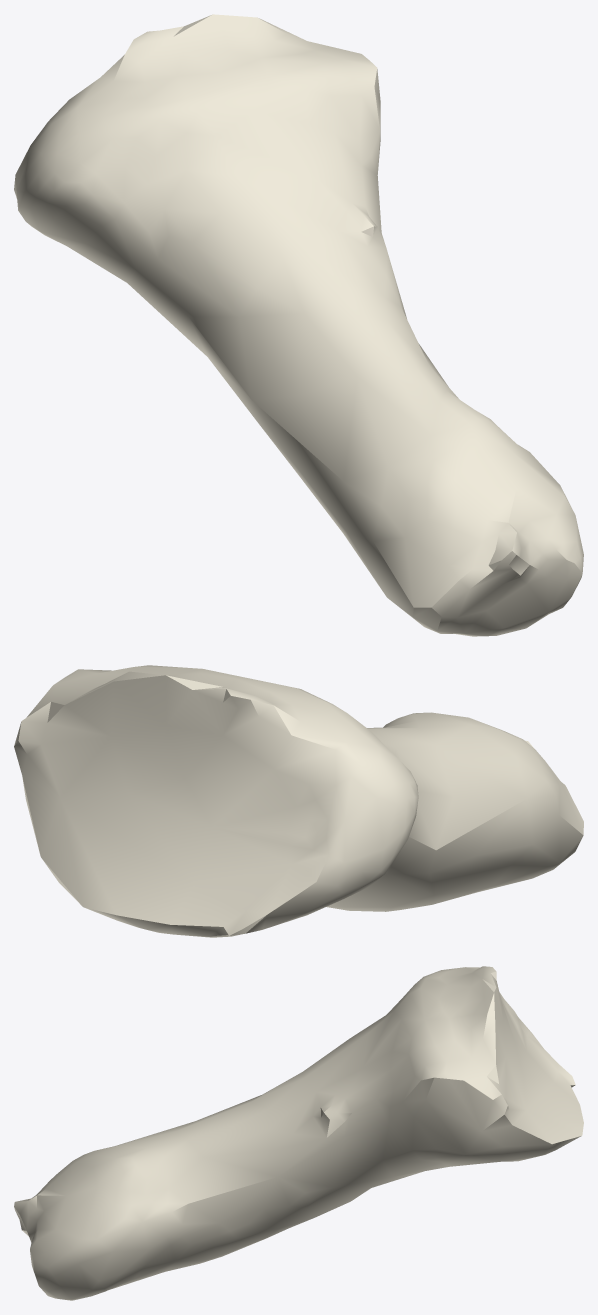
File: fma23957_mm1889m.glb
The picture shows the model from 3 angles, top to bottom: view 1: azimuth 30°, elevation 25°; view 2: azimuth 150°, elevation 25°; view 3: azimuth 270°, elevation 25°; orthographic projection. The views are drawn at different scales.
Visible parts, largest first — view 1: FMA23957_MM1889M; view 2: FMA23957_MM1889M; view 3: FMA23957_MM1889M.
Part boxes in pixels (x1=…): FMA23957_MM1889M: x1=14, y1=14, x2=583, y2=636; FMA23957_MM1889M: x1=14, y1=665, x2=583, y2=937; FMA23957_MM1889M: x1=14, y1=966, x2=583, y2=1300.
Size of the model in its own units: 0.0084 by 0.00938 by 0.0161.
